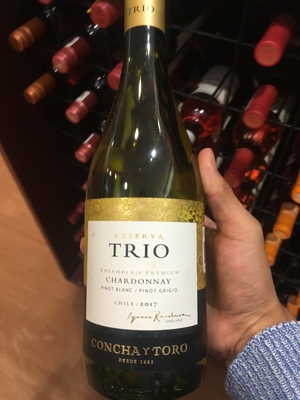trio chardonnay: (78, 13, 216, 400)
